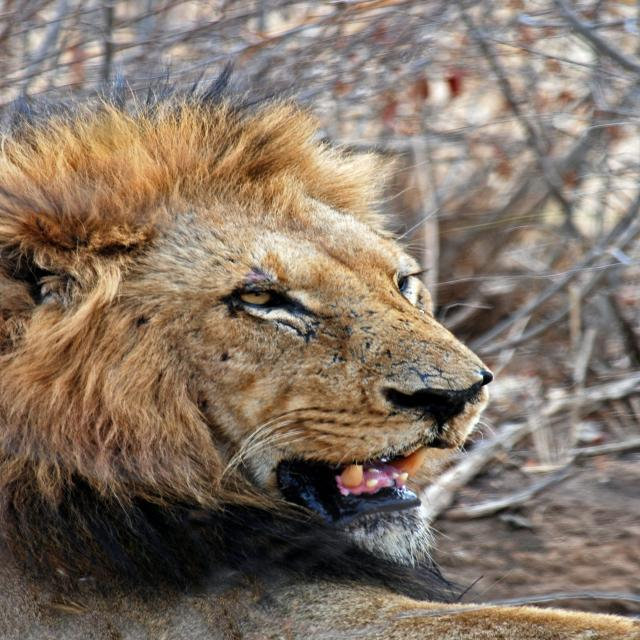lions: (0, 57, 640, 640)
